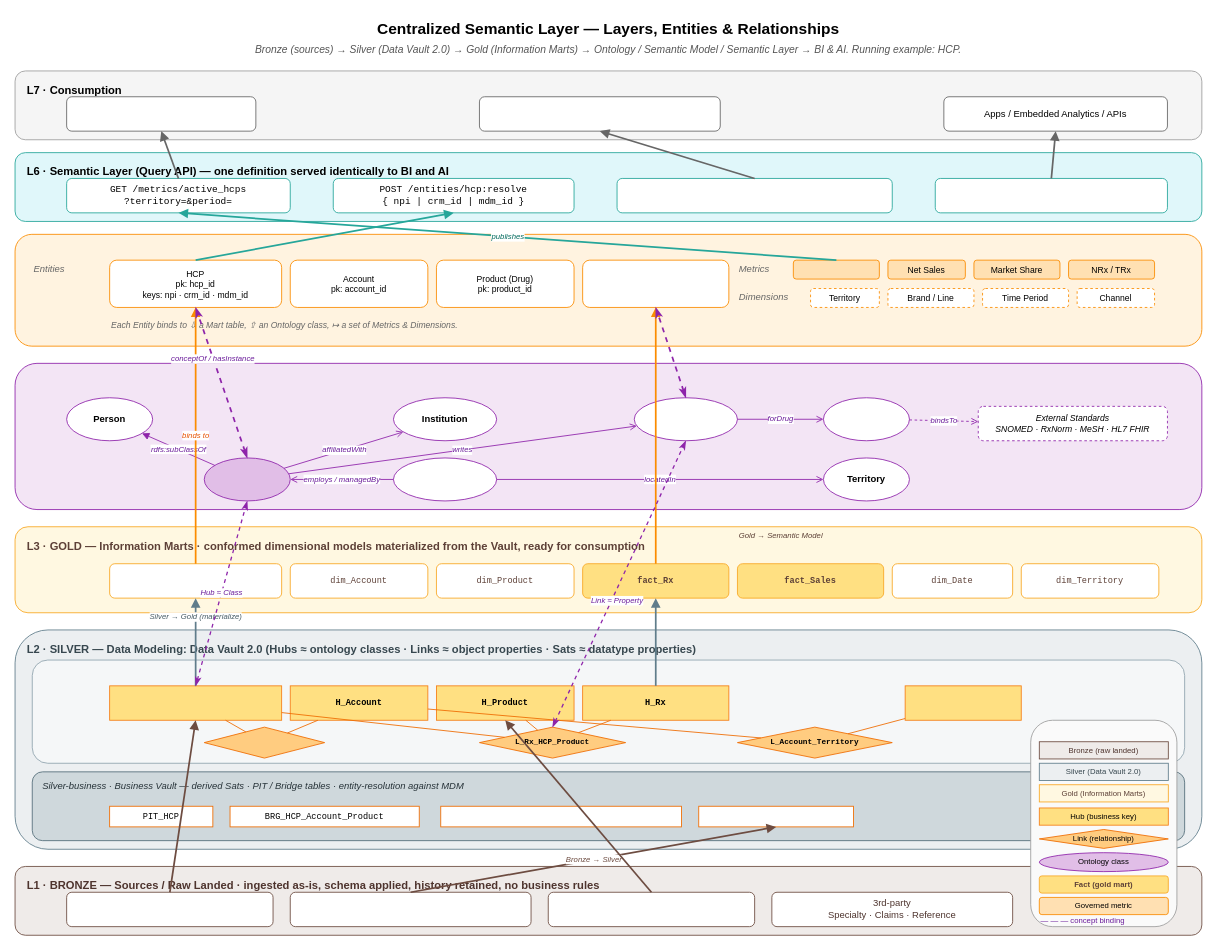
Image size: 1217x950. Some labels were removed from this diagram. The shapes that lost their labels are listed below. From the top down, each one's box as (x1, y1, x2, y2) in pixels, then its label:
(66, 96, 256, 131): Power BI / Tableau (dashboards)
(479, 96, 720, 131): LLM Agent / Copilot (NL → metric, RAG, tool-calling)
(616, 178, 892, 213): agent.tool: query_metric( … ) agent.tool: traverse_concept( … )
(934, 178, 1167, 213): Policies: PIPL · row-/col-level security · masking · audit
(582, 259, 729, 307): Prescription (Rx) pk: rx_id
(792, 259, 879, 279): Active HCPs
(14, 233, 1202, 346): L5 · Semantic Model — Entities · Metrics · Dimensions (the operational binding)
(14, 362, 1202, 510): L4 · Ontology / Concept Layer — classes, taxonomies & relationships (TBox)
(633, 397, 737, 441): Prescription
(823, 397, 909, 441): Drug
(203, 457, 290, 501): HCP
(393, 457, 497, 501): Account
(109, 563, 282, 598): dim_HCP
(109, 685, 282, 720): H_HCP hub_hcp_hk · npi · crm_id · mdm_id
(31, 659, 1185, 763): Silver-raw · Raw Vault — insert-only · hash-keyed · load_date · record_source
(904, 685, 1021, 720): H_Territory
(203, 726, 325, 758): L_HCP_Account
(440, 805, 682, 827): S_HCP_BV_resolved (golden record)
(698, 805, 854, 827): S_Rx_BV_NRx_TRx
(1030, 719, 1177, 927): Legend
(66, 891, 273, 927): CRM HCP · Account · Activity
(289, 891, 531, 927): ERP / Sales Net Sales · Volume · Channel
(547, 891, 755, 927): MDM HCP / Product master
